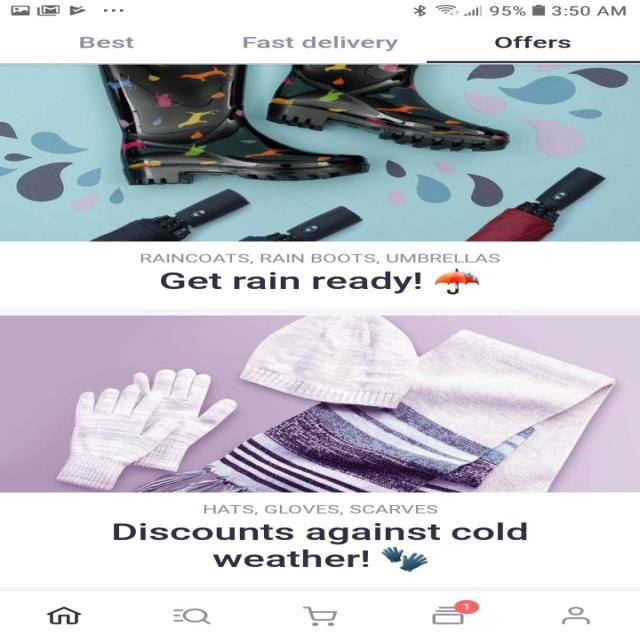Icon: (431, 599, 479, 625), (302, 606, 338, 626), (46, 606, 82, 625), (172, 608, 212, 625), (560, 605, 590, 624)
Image: (0, 65, 639, 242), (0, 315, 639, 492), (380, 546, 428, 572), (433, 268, 479, 295)
Text: (113, 521, 528, 567), (160, 270, 422, 294), (140, 253, 500, 264), (202, 505, 438, 515), (243, 36, 398, 51), (493, 36, 571, 49), (79, 36, 134, 49)
